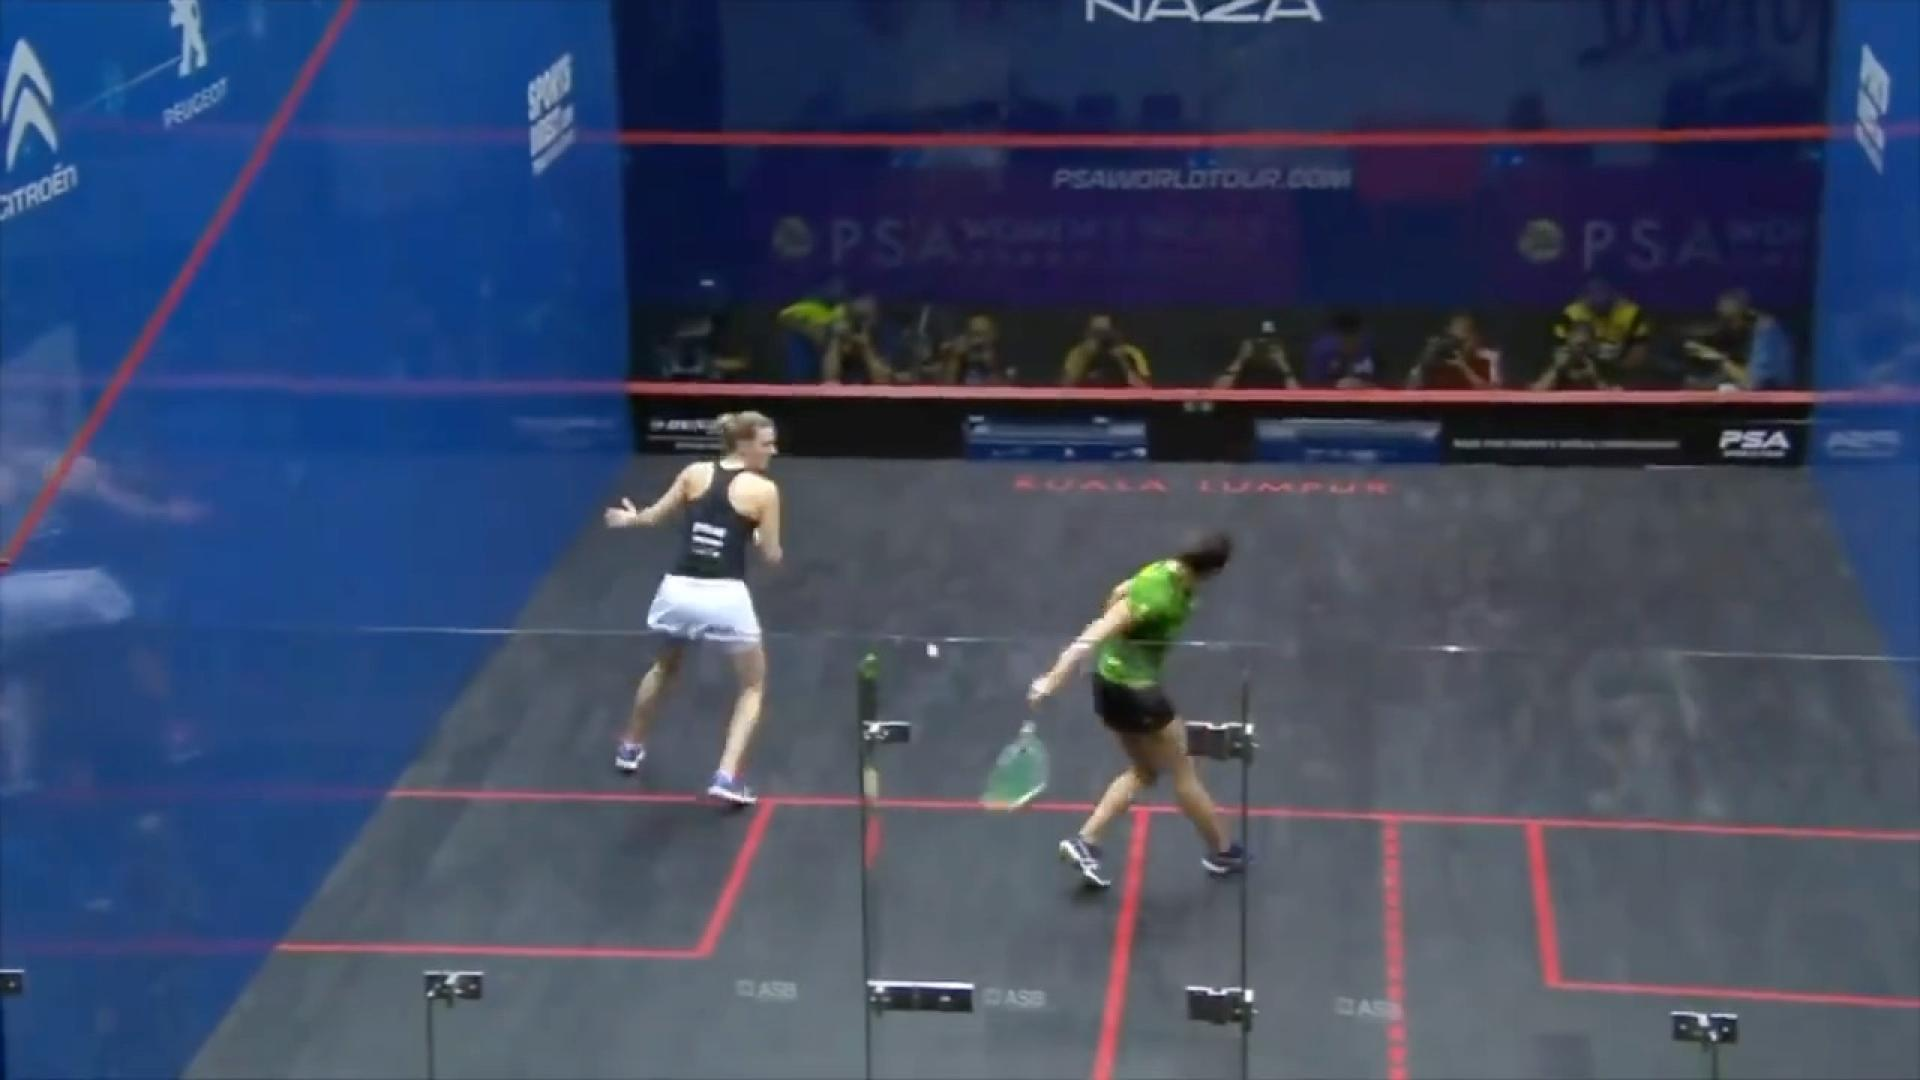Squash-Ball: (910, 628, 955, 673)
